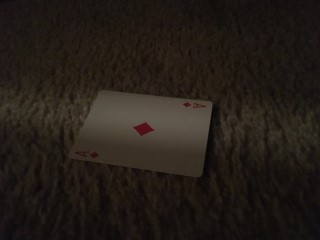AceOfDiamonds: (68, 90, 213, 178)
